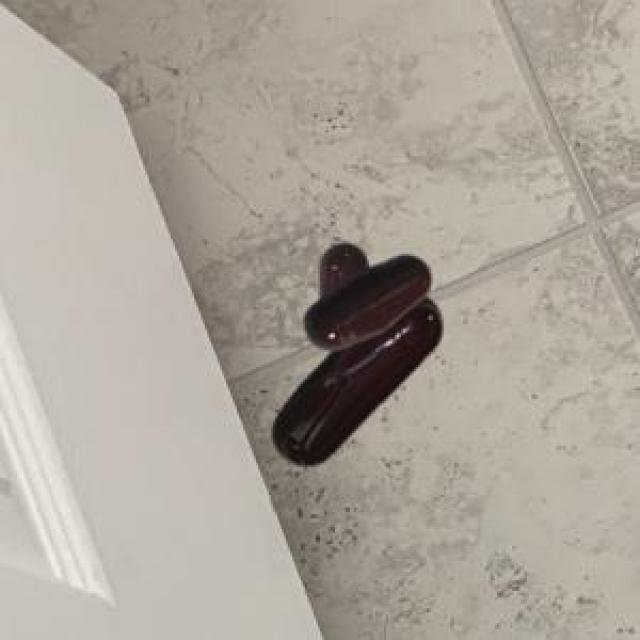DayZinc: (248, 227, 462, 484)
